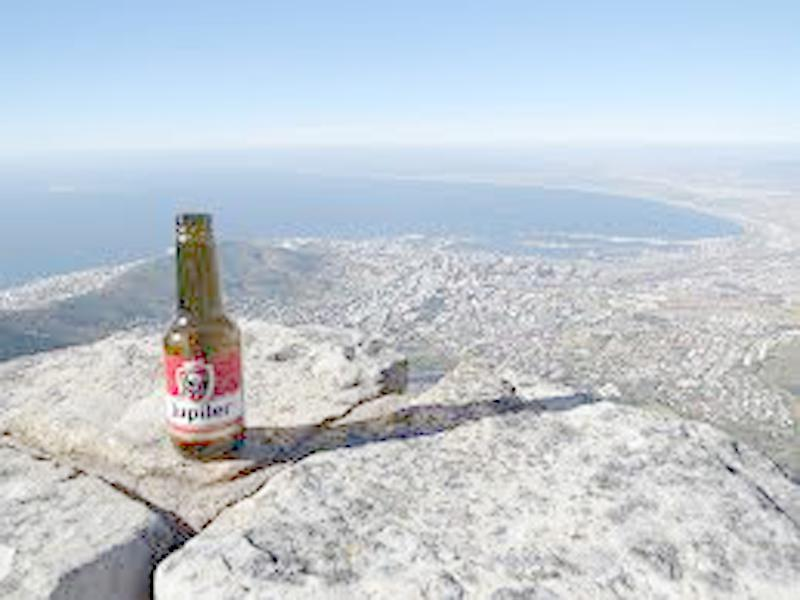Beer: (161, 210, 244, 452)
